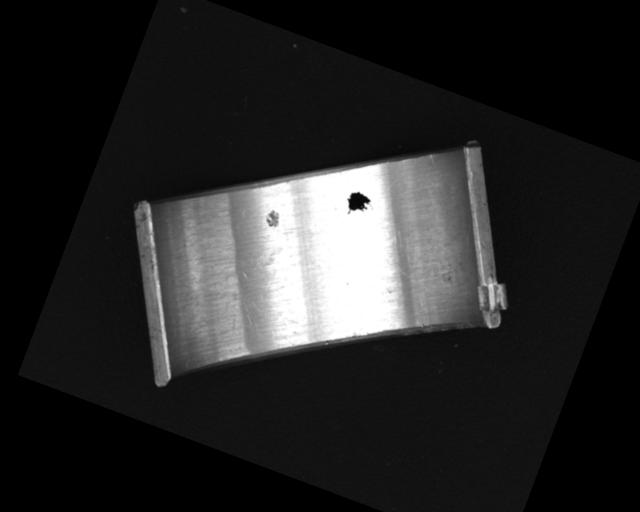blot: (342, 188, 379, 222)
bruise: (262, 207, 284, 231)
nick: (426, 152, 439, 166)
